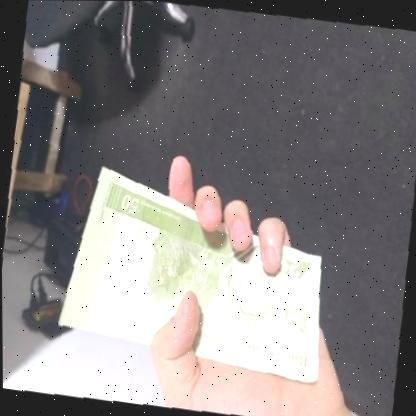fifty-back-vef: (52, 161, 341, 383)
